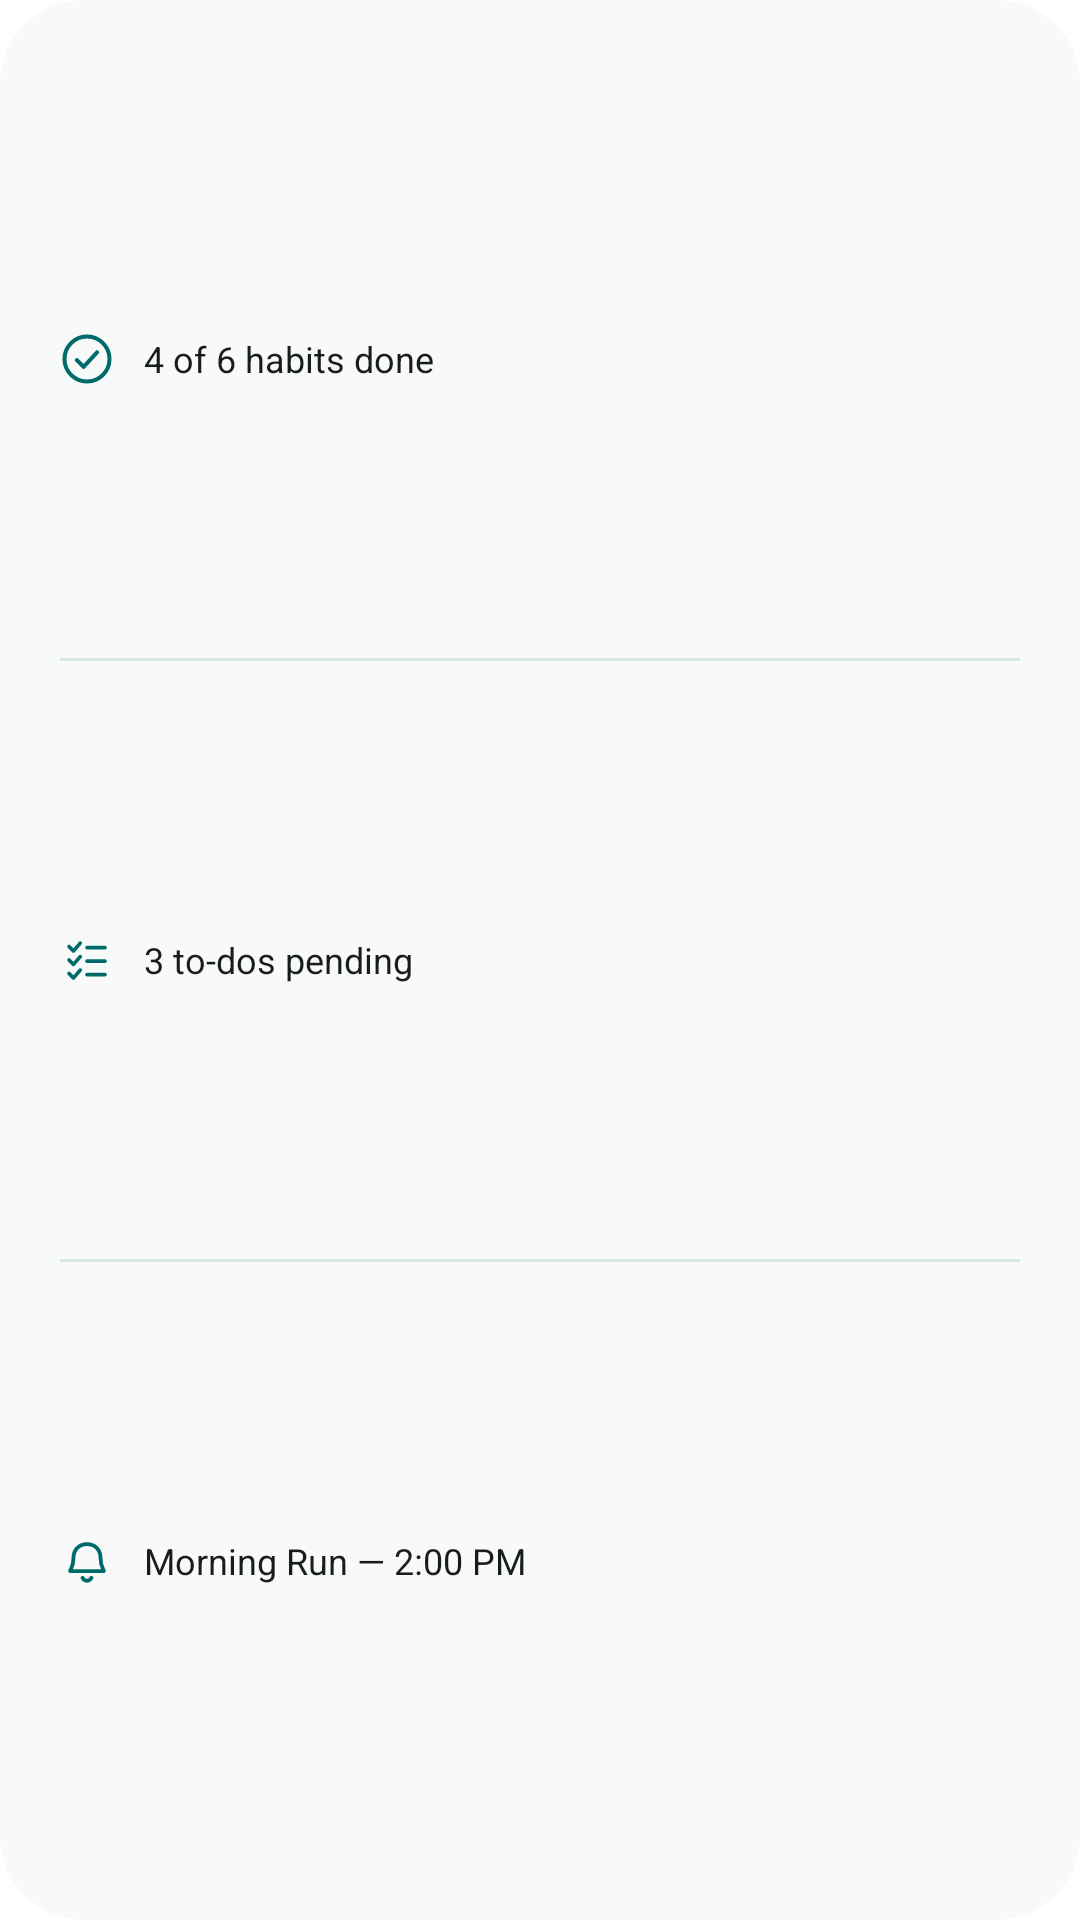

Icons on this 1080px×1920px Android screen, each with the point to tap as (x=x, y=y):
widget check circle: (x=87, y=359)
widget checklist: (x=87, y=960)
widget notifications: (x=87, y=1562)
